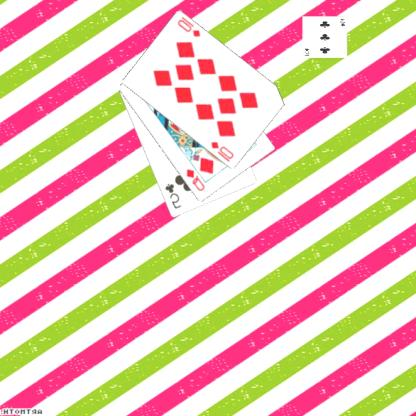10D: (176, 14, 204, 38), (210, 139, 237, 163)
5C: (164, 181, 184, 210)
QD: (185, 166, 208, 193)
